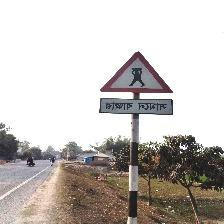Market-in-front: (99, 52, 174, 116)
